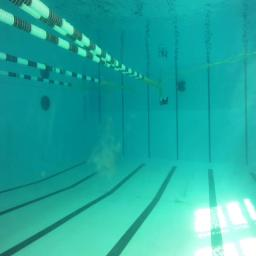Full: (177, 86, 187, 92)
front: (158, 96, 170, 104)
